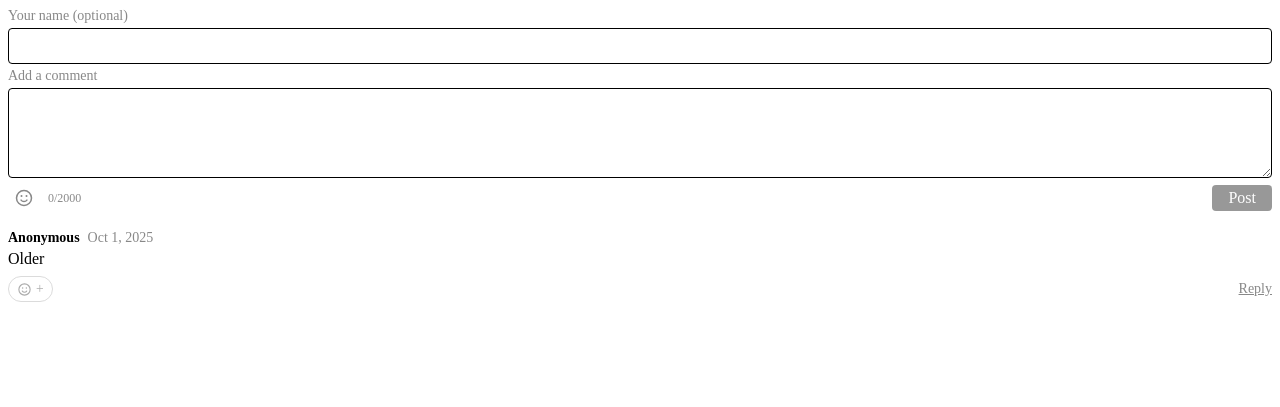
Test: CommentThread › posts a new top-level comment and shows it first
Expected: the text "Older" is shown, [8, 250, 44, 267]
Type "Sidney" into the field labelled "Your name (optional)" at (640, 46), box [8, 28, 1272, 64]
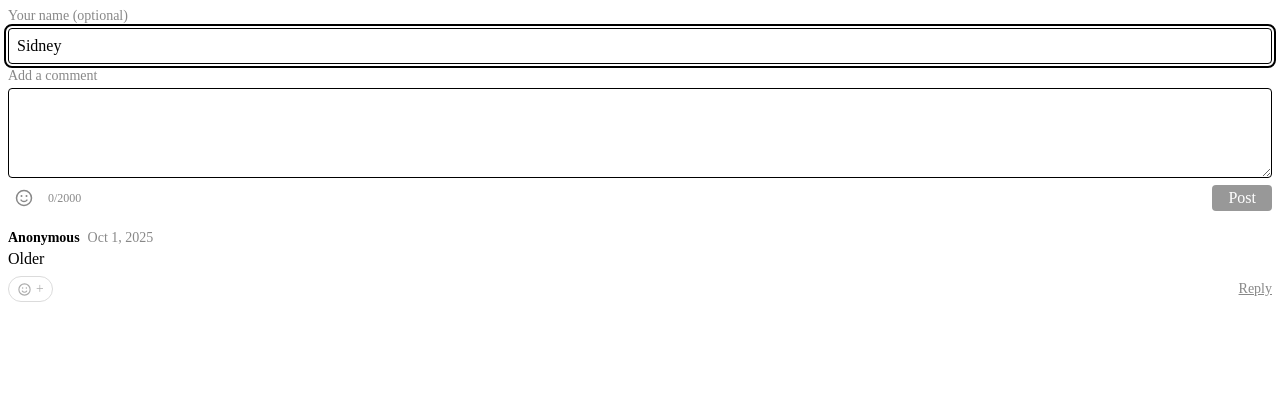
Type "What's your favorite scary movie?" into the text box labelled "Add a comment" at (640, 133), box [8, 88, 1272, 178]
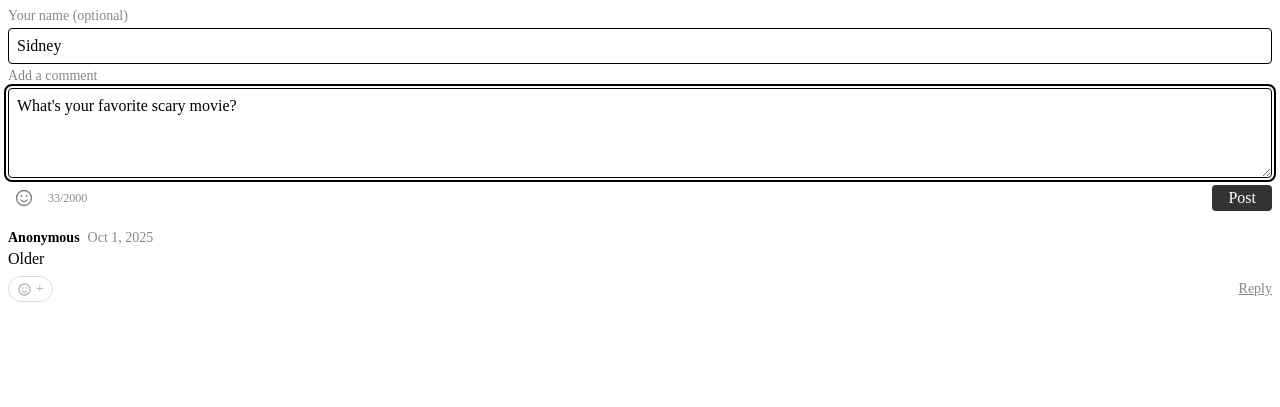
Click the button "Post" at (1242, 198), box [1212, 185, 1272, 211]
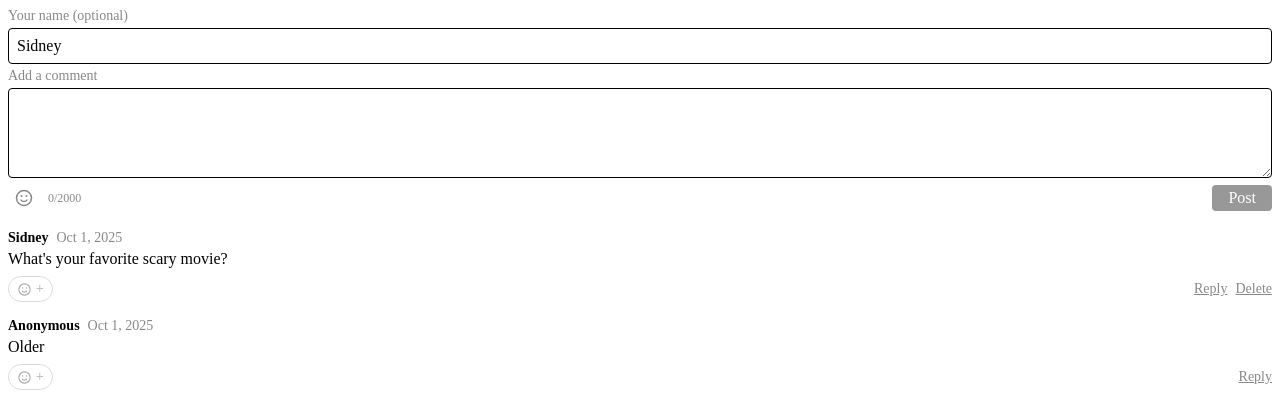
Now the element named "Comment by Sidney" shows "What's your favorite scary movie?", box [8, 250, 228, 267]
